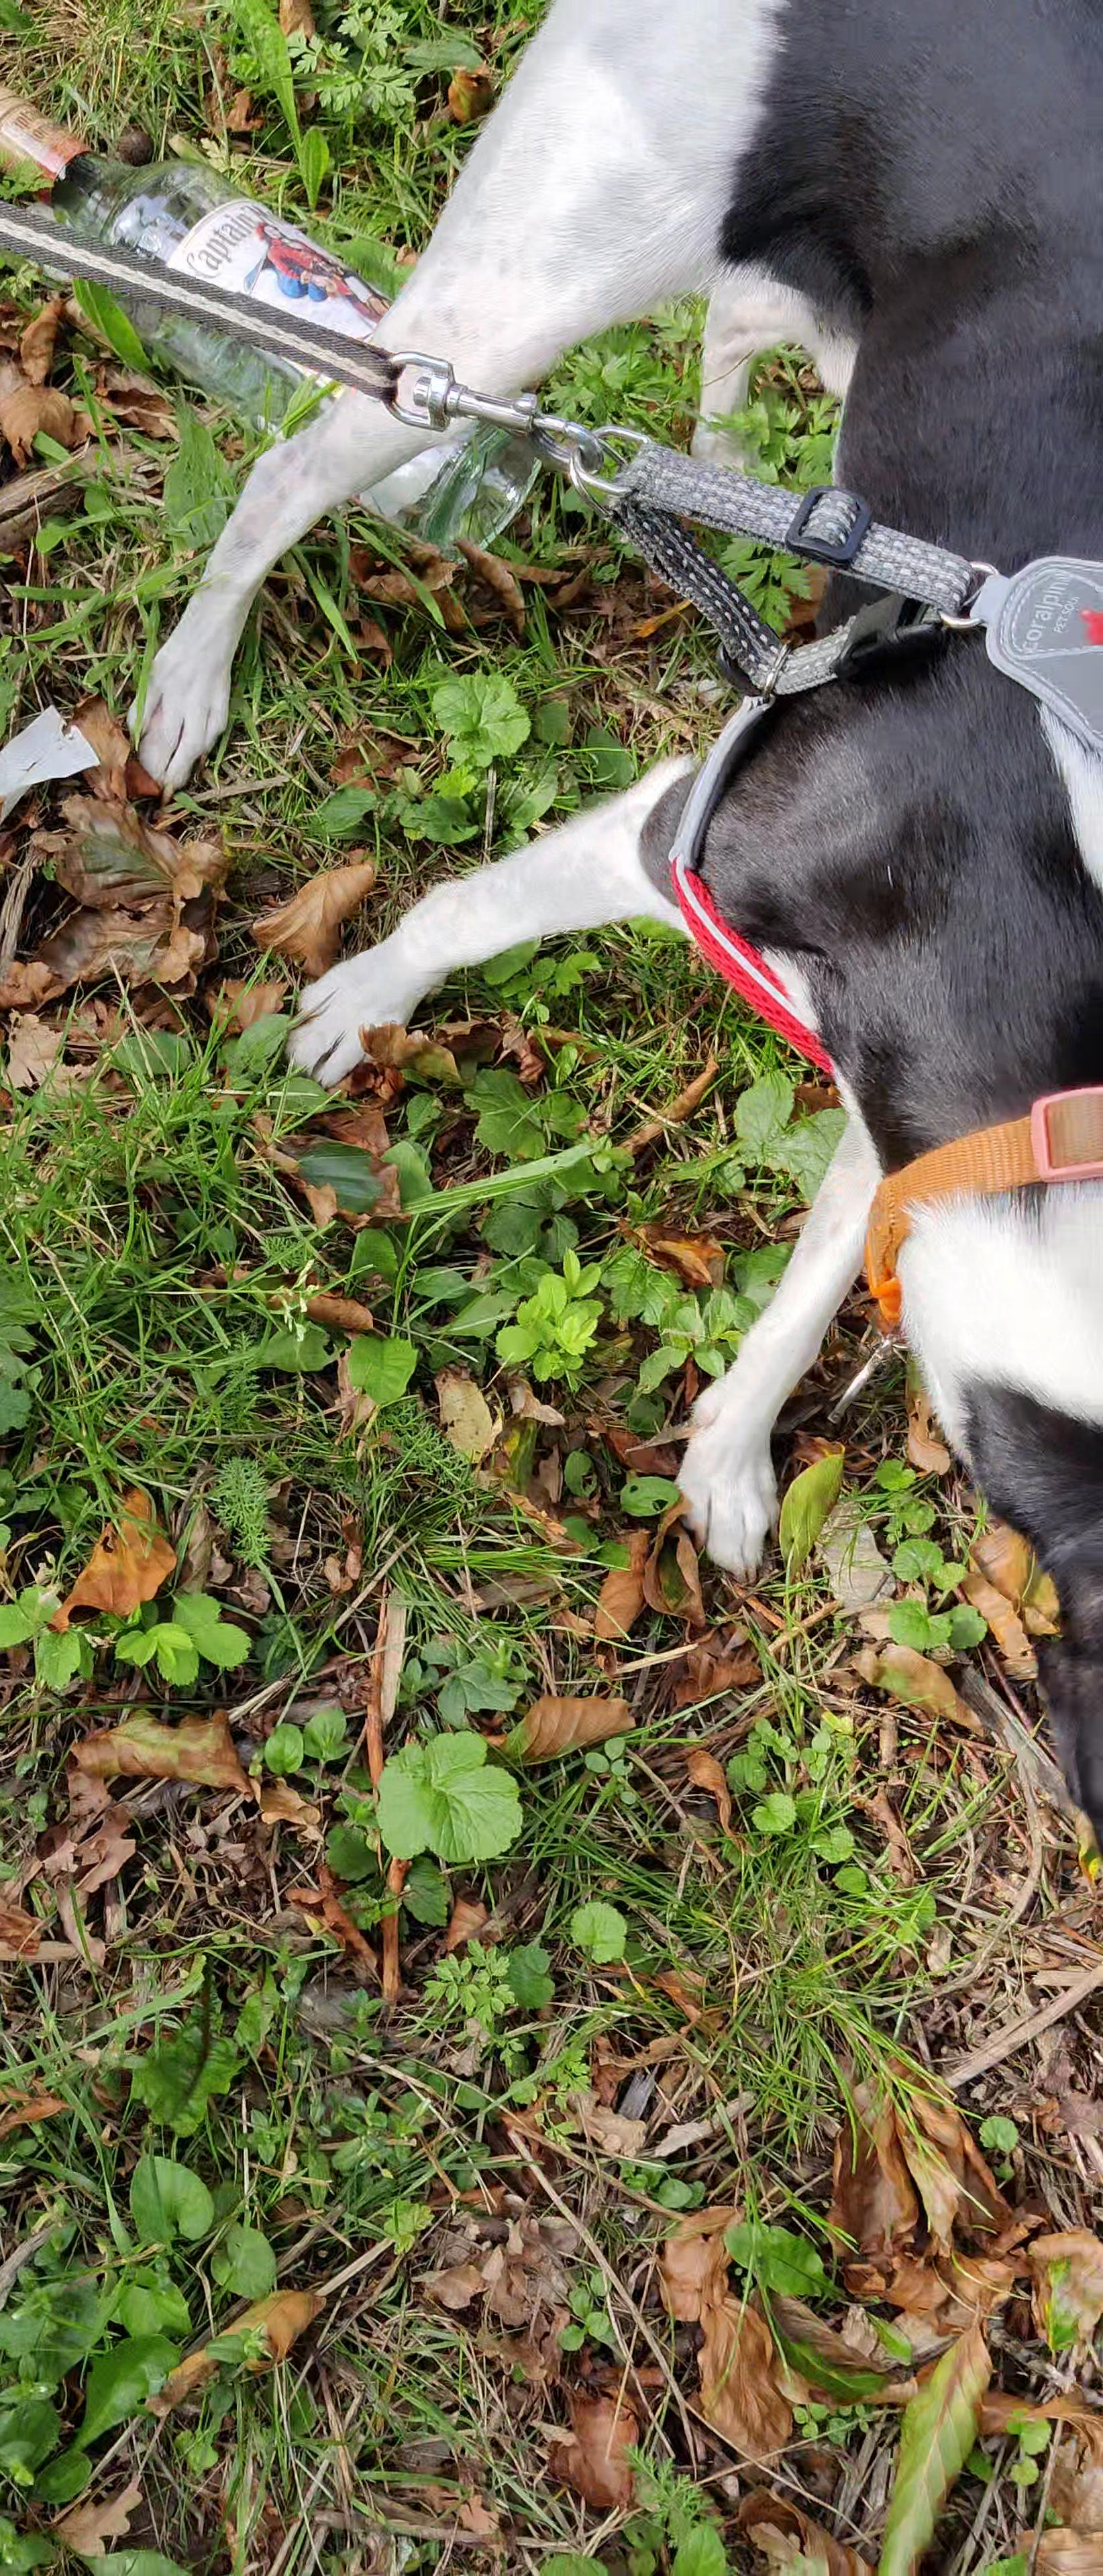Dog: (118, 0, 1103, 1825)
